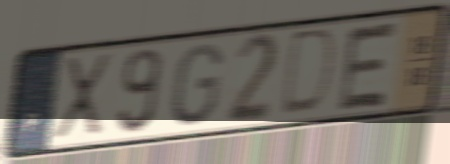2: (224, 31, 281, 130)
9: (116, 45, 165, 137)
D: (276, 25, 340, 120)
E: (334, 18, 403, 115)
G: (168, 41, 225, 129)
X: (49, 49, 115, 142)
